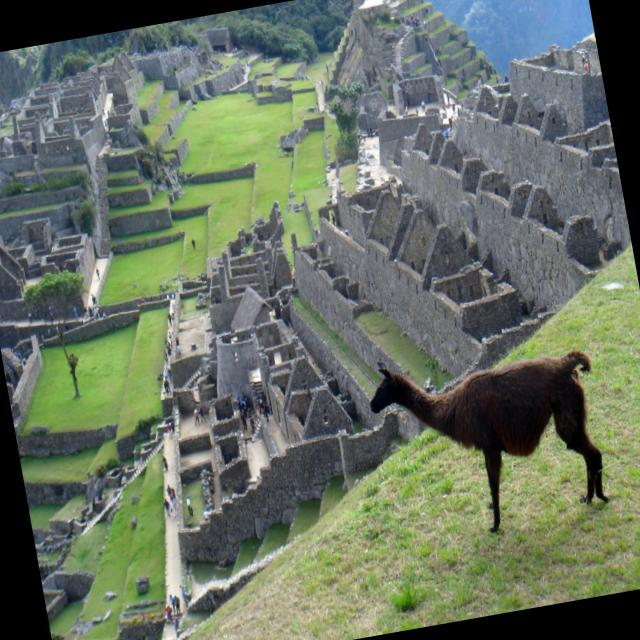alpaca: (362, 333, 616, 546)
